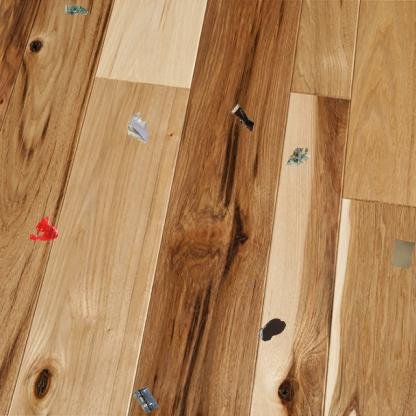dirty: (130, 385, 161, 415), (123, 111, 151, 143), (229, 102, 257, 131), (390, 238, 415, 269), (284, 146, 313, 168), (63, 3, 89, 18)
liquid: (28, 216, 58, 242), (258, 317, 288, 342)
